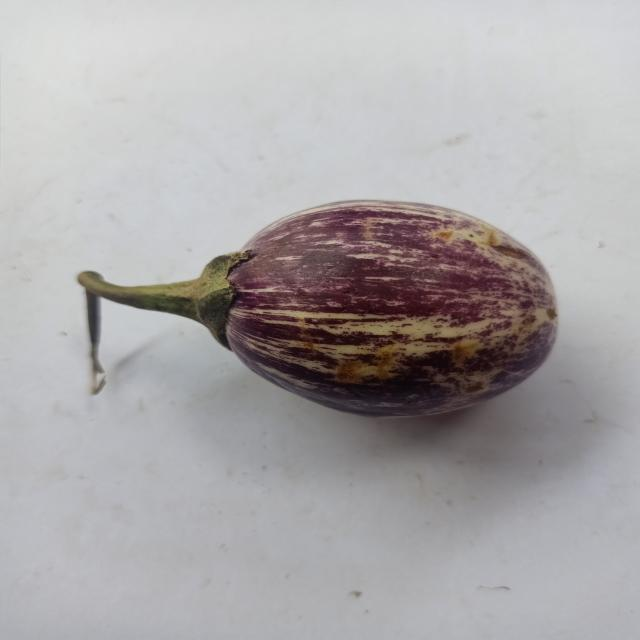Eggplant: (57, 192, 638, 436)
